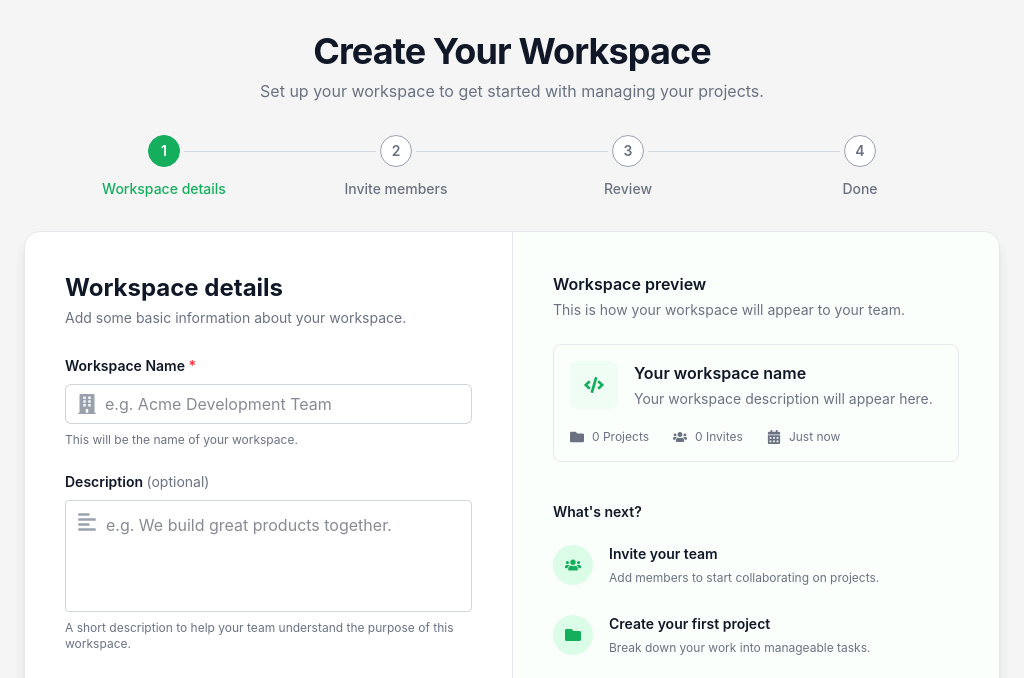
Test case: Create workspace page › submits a normalized request and shows the completed step
The width and height of the screenshot is (1024, 678).
Type "  Engineering  " into the field labelled "Workspace Name *". click: (268, 404)
box: [65,384,472,424]
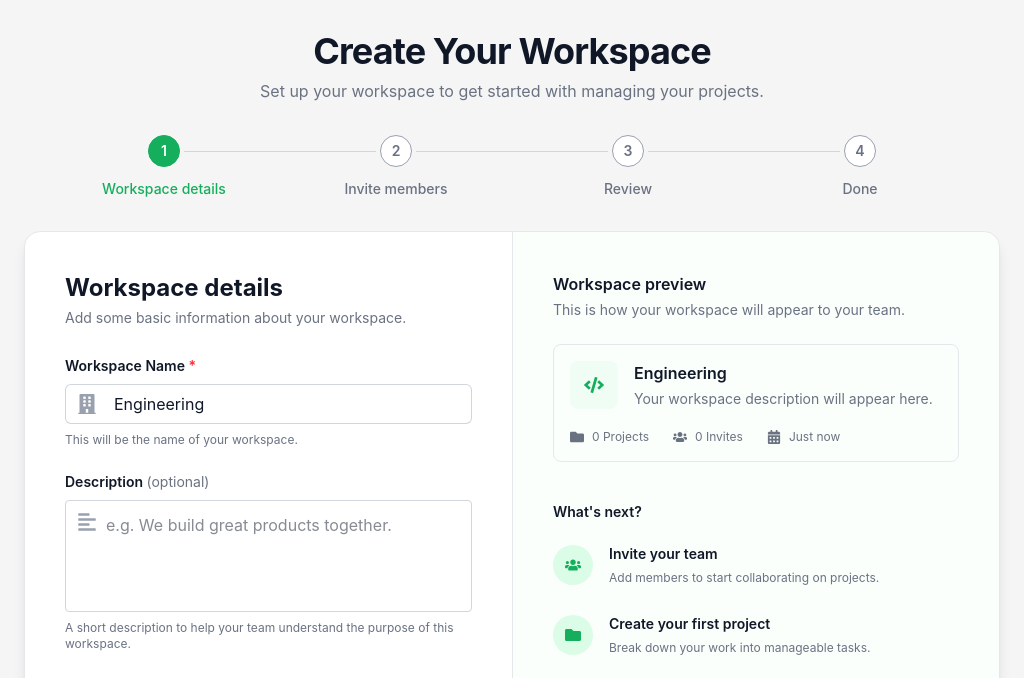
Type "  Builds the product.  " into the text box labelled "Description (optional)". click: (268, 556)
box: [65,500,472,612]
(page scrolled)
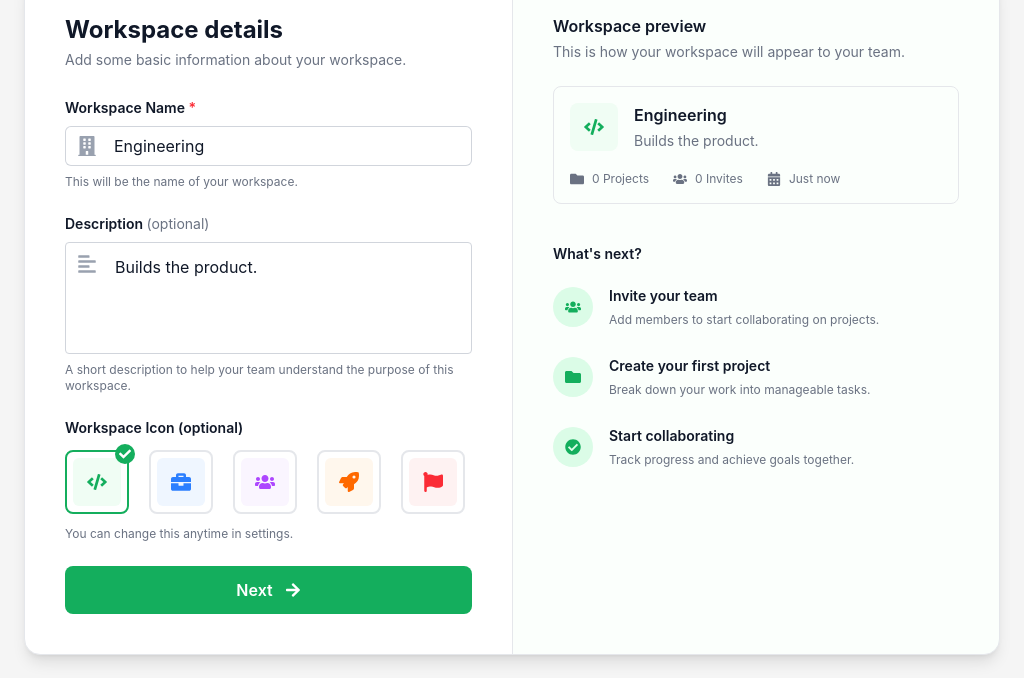
Click the button "Next". click: (268, 590)
box: [65,566,472,614]
(page scrolled)
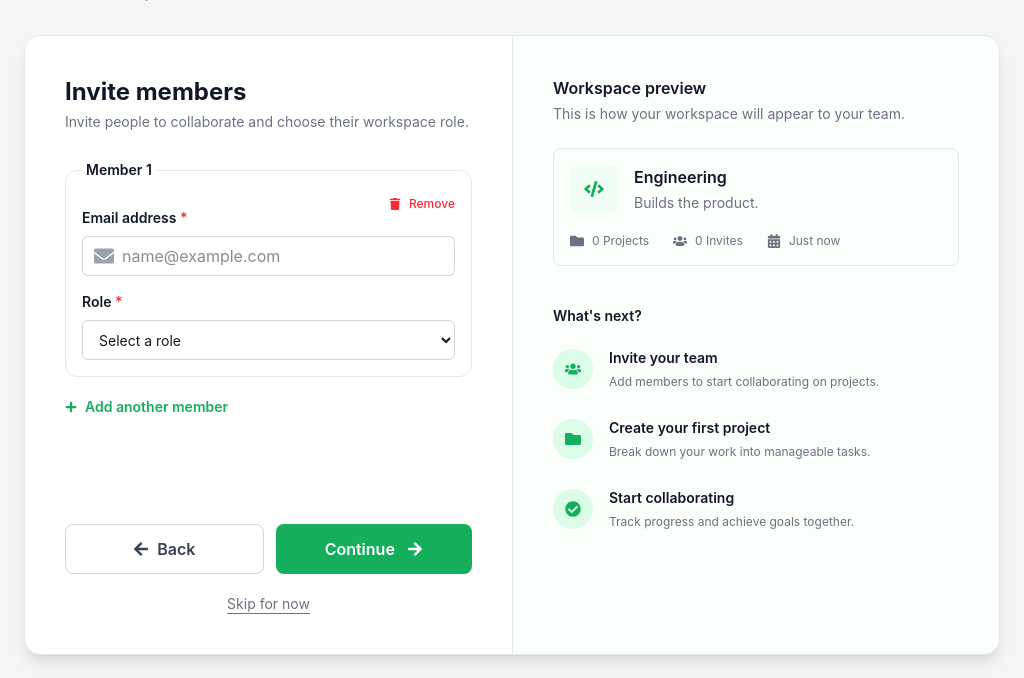
Expected: the heading "Invite members" is shown, [65,77,246,106]
Type " DEV@Example.COM " into the field labelled "Email address *". click: (268, 256)
box: [82,236,455,276]
Select "ADMIN" in the dropdown labelled "Role *". click: (268, 340)
box: [82,320,455,360]
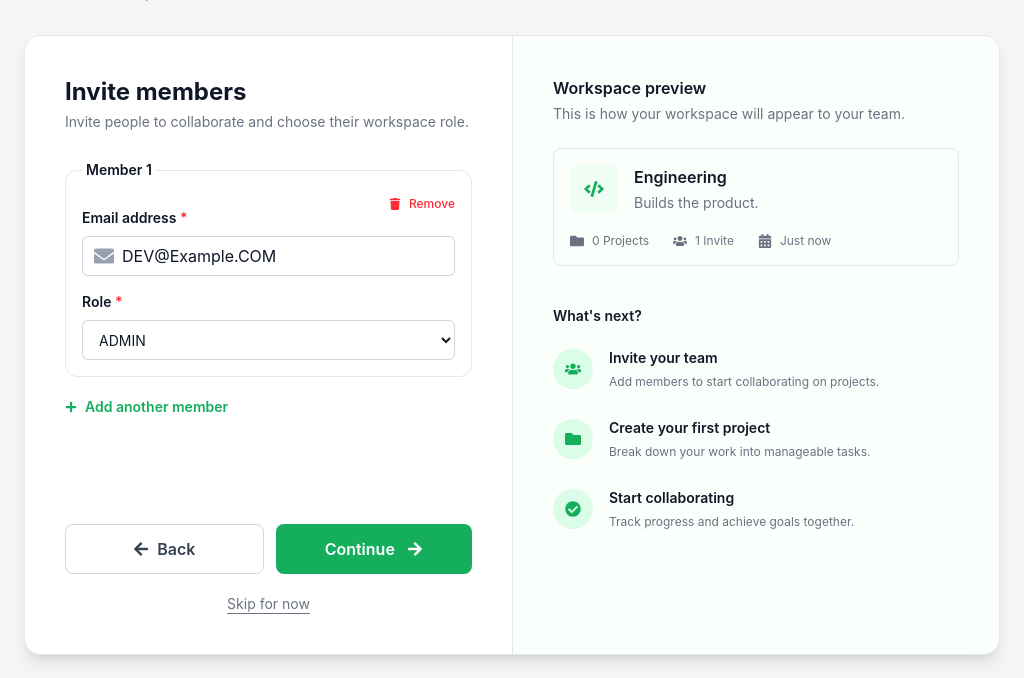
Click the button "Continue". click: (374, 549)
box: [276,524,472,574]
(page scrolled)
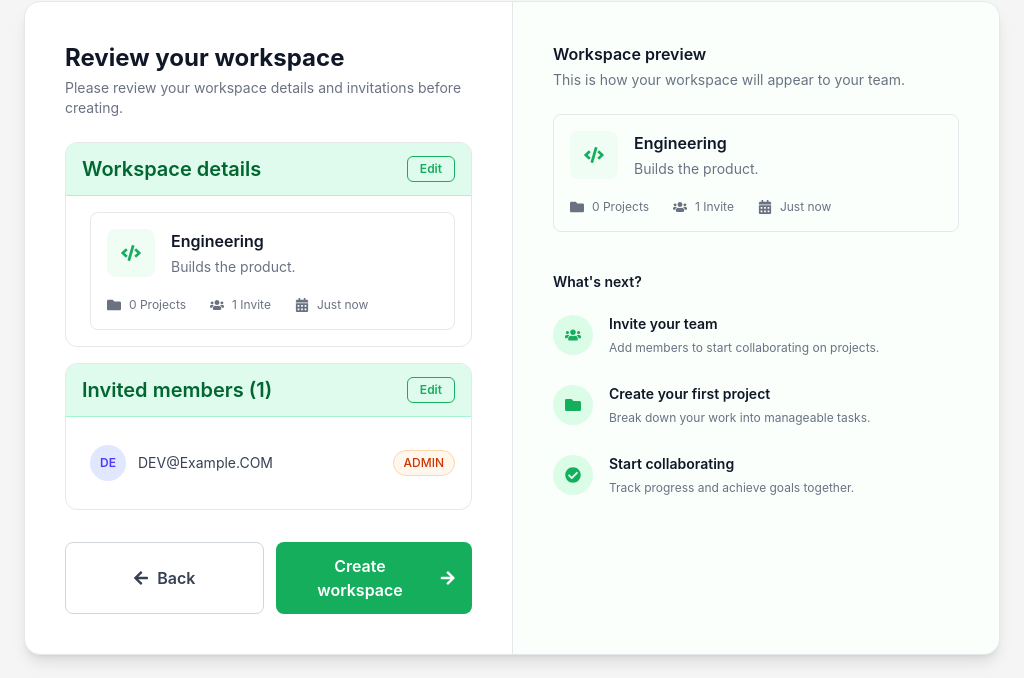
Expected: the heading "Review your workspace" is shown, [65,43,344,72]
Click the button "Create workspace". click: (374, 578)
box: [276,542,472,614]
(page scrolled)
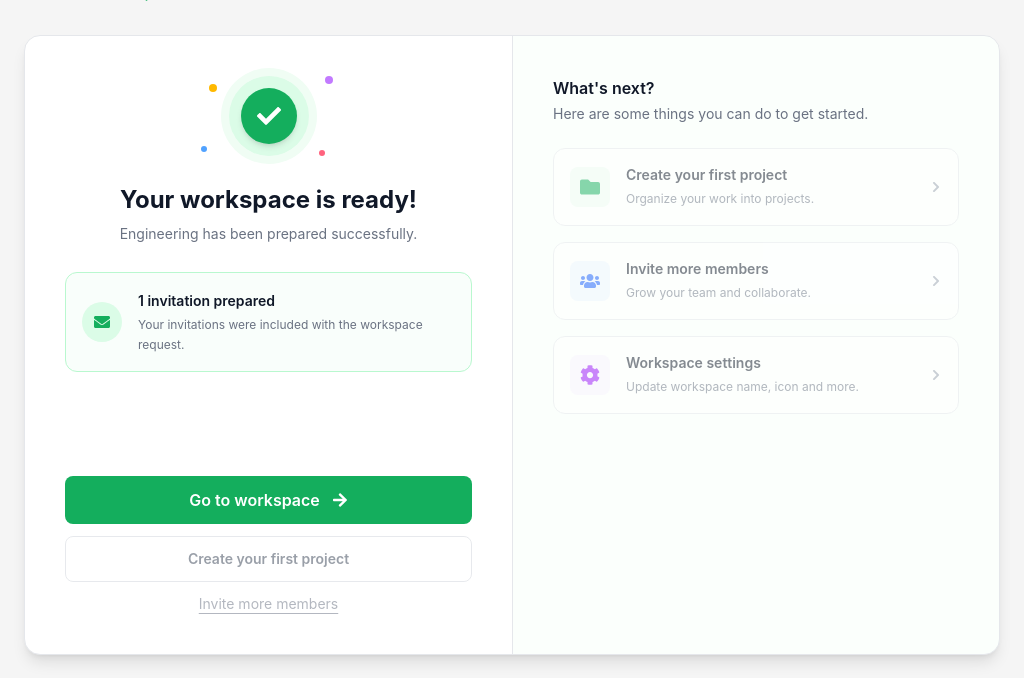
Expected: the heading "Your workspace is ready!" is shown, [120,185,417,214]
Expected: the button "Create your first project" is disabled, [65,536,472,582]
Expected: the button "Invite more members" is disabled, [199,594,338,614]
